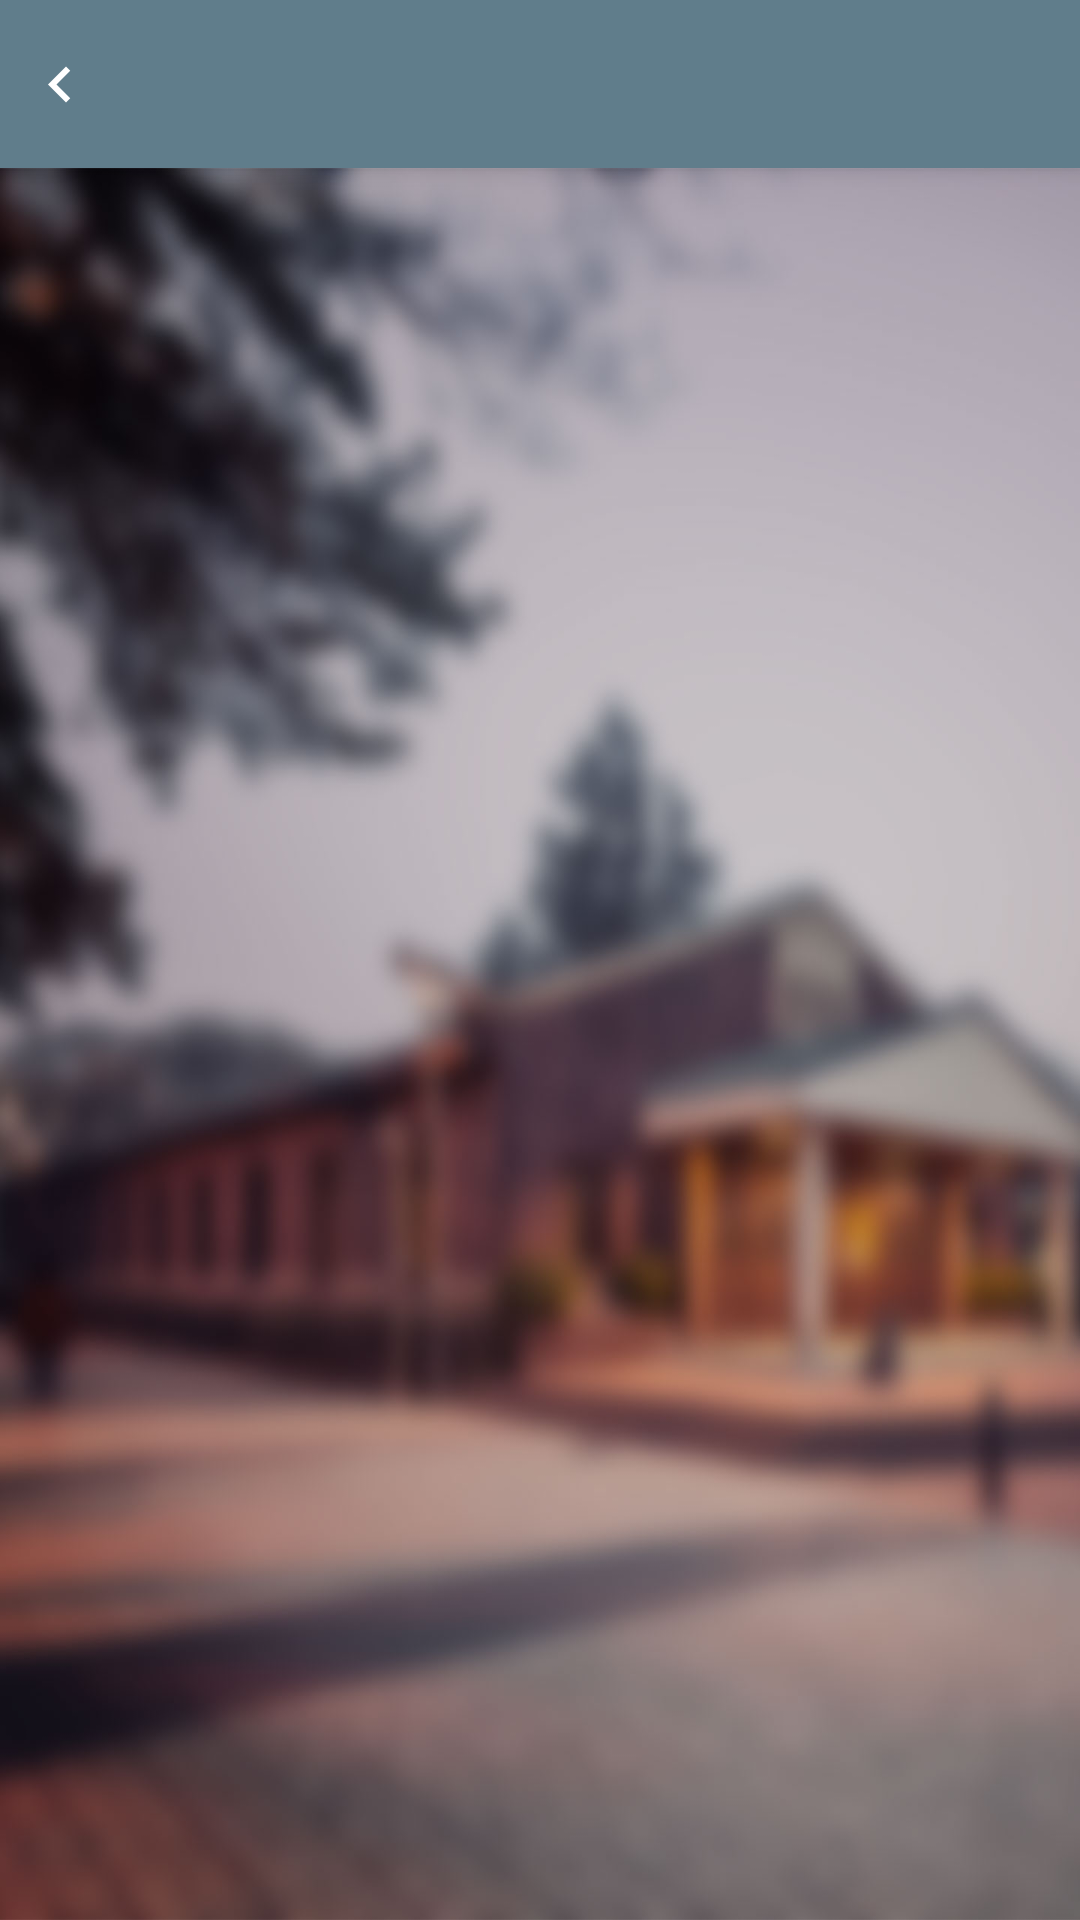

Icon bounding boxes for this 1080*1920 phone screenshot, format bbox=[x1, y1, x2, y2]:
back: bbox=[48, 67, 70, 102]
